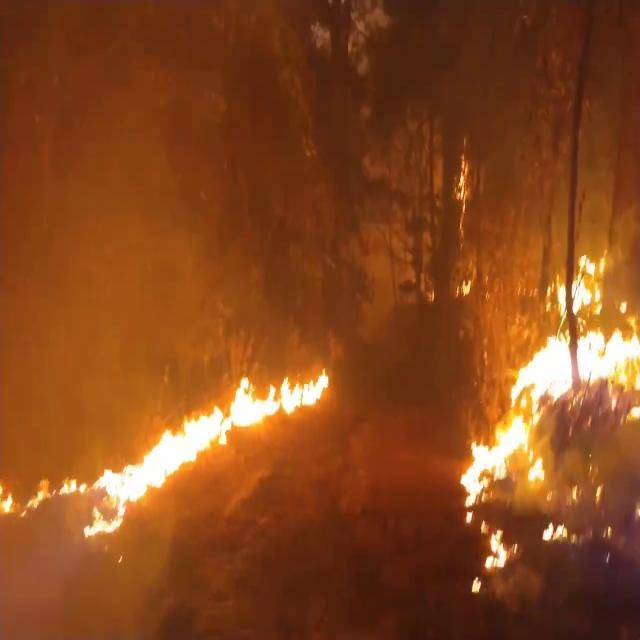Fire: (454, 238, 640, 510), (100, 348, 332, 516)
Smoke: (0, 2, 250, 396)
